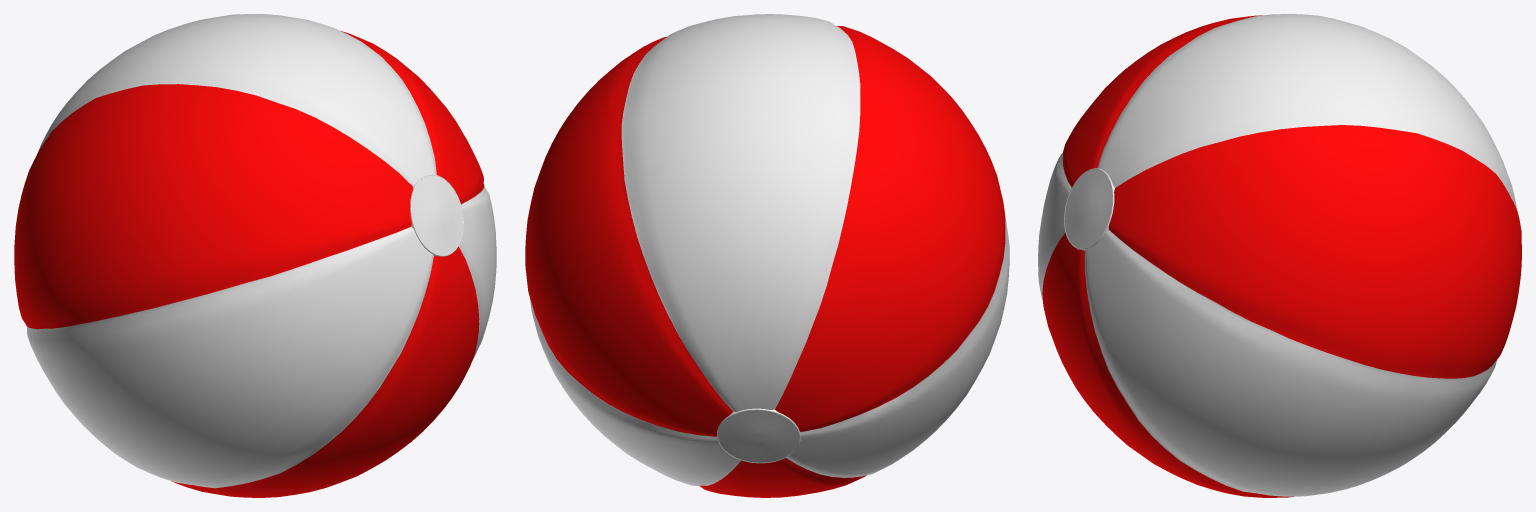
Rendered from poke_ball_05.glb.
3 renders of one model, left to right at view 1: azimuth 30°, elevation 25°; view 2: azimuth 150°, elevation 25°; view 3: azimuth 270°, elevation 25°, orthographic.
Parts seen in each view (by area): view 1: White Stripes, Pink Stripes; view 2: White Stripes, Pink Stripes; view 3: White Stripes, Pink Stripes.
Boxes of the visible parts, box(x1,y1,x2,y2) form: White Stripes: box(27, 14, 496, 488); Pink Stripes: box(14, 31, 484, 497); White Stripes: box(530, 14, 1009, 485); Pink Stripes: box(525, 26, 1005, 497); White Stripes: box(1038, 14, 1516, 496); Pink Stripes: box(1042, 15, 1521, 497).
Bounding box in the file's own units: 2.7 × 2.7 × 2.69.
